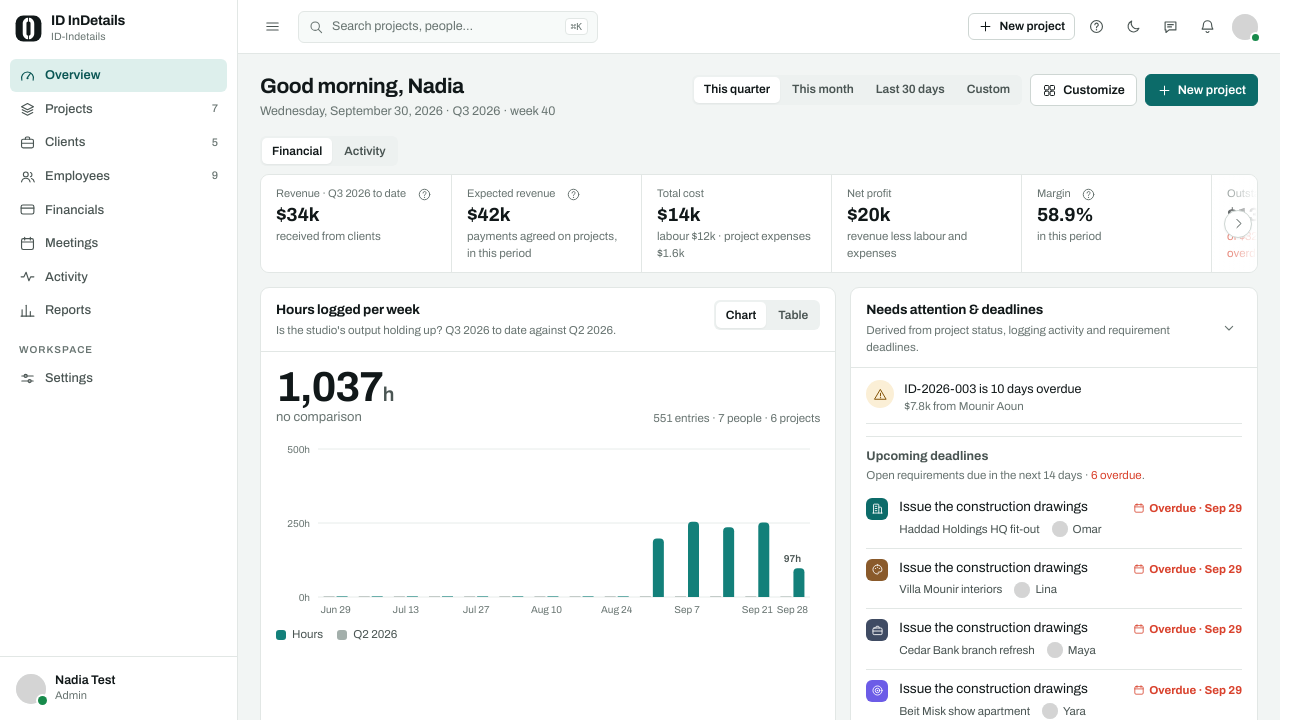
Test case: Overview › greets the admin and sums up the quarter
The width and height of the screenshot is (1292, 720).
Check: the heading "Good morning, Nadia" is shown, box [260,75,464,97]
Check: the text "Wednesday, September 30, 2026 · Q3 2026 · week 40" is shown, box [260,102,555,120]
Click the tab "Activity".
click(365, 151)  # box [334,138,396,164]
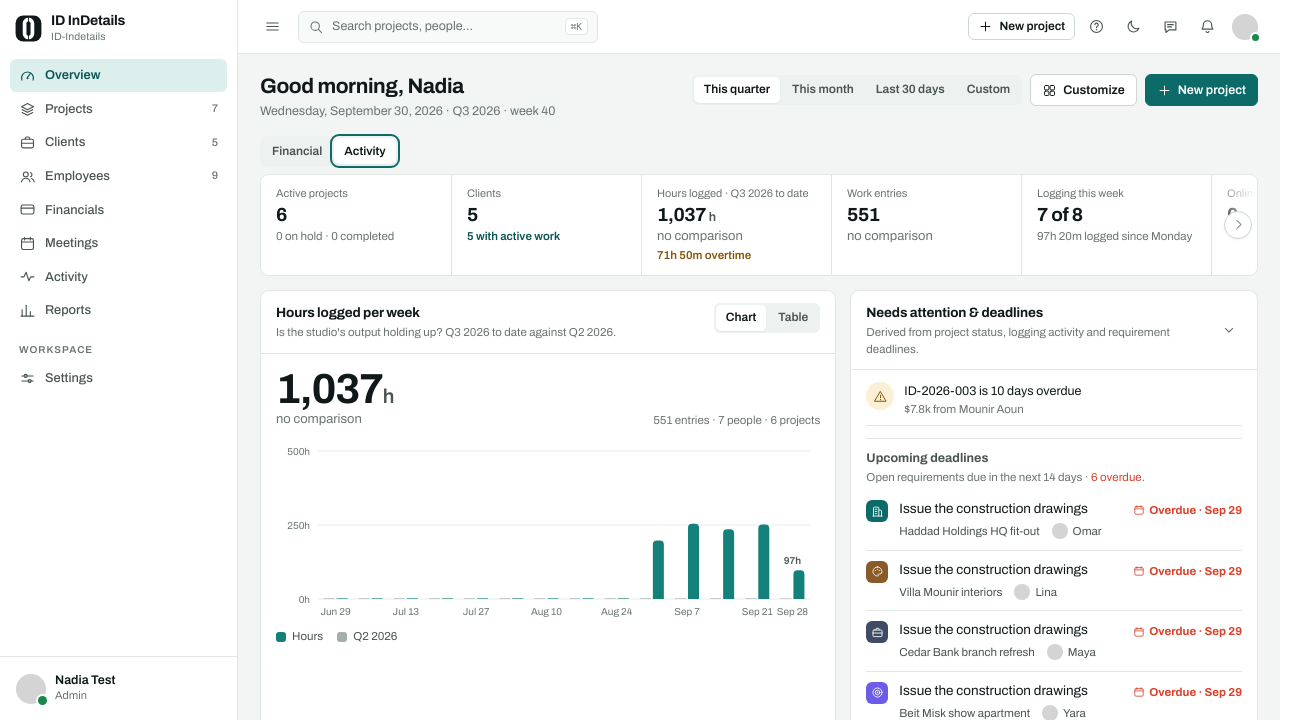
Check: the text "ID-2026-003 is 10 days overdue" is shown, box [904,384,1081,398]
Check: the text "Hours logged · Q3 2026 to date" is shown, box [657,186,816,202]
